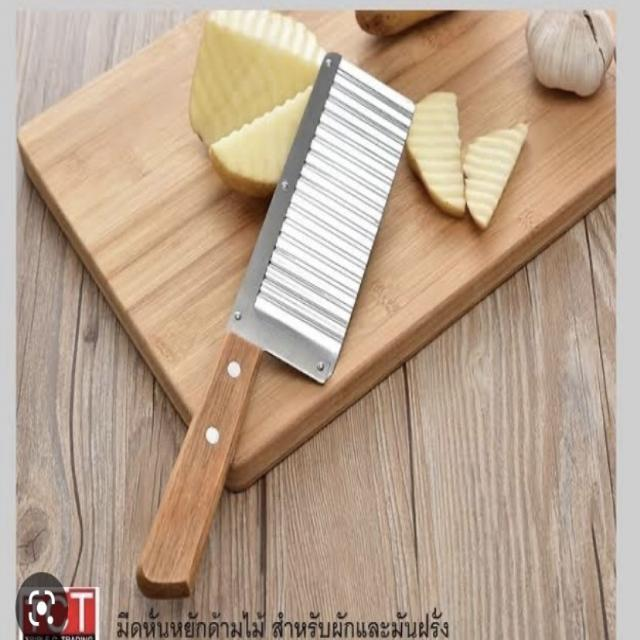Knife: (127, 45, 424, 602)
